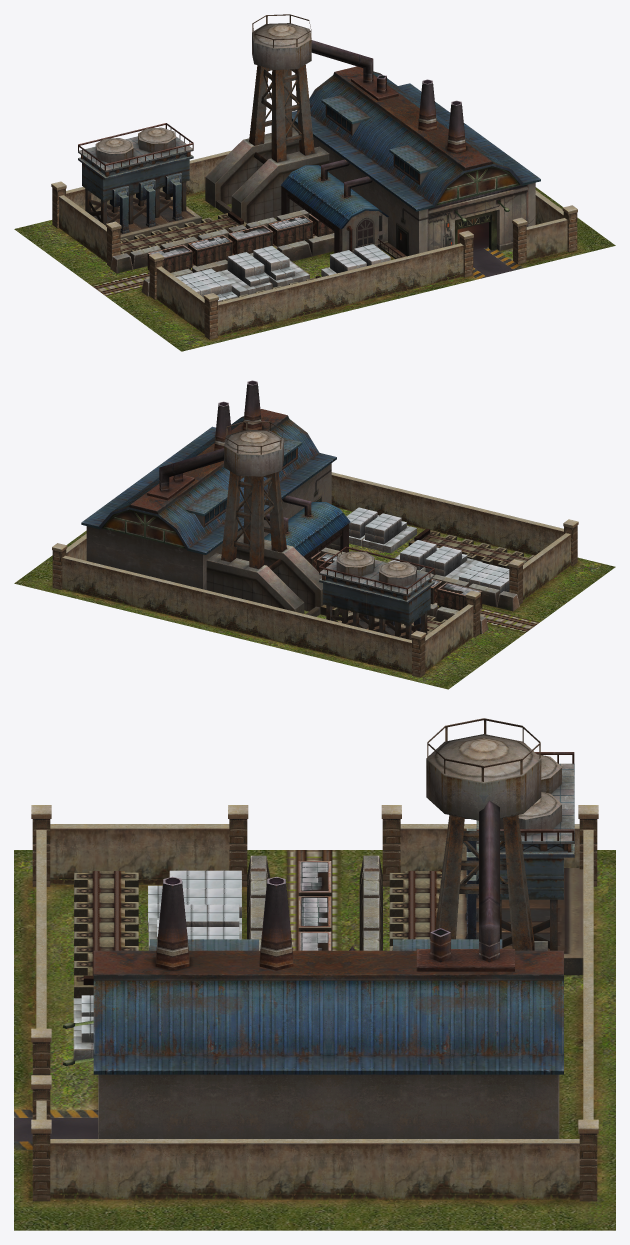
Rendered from Dhz_AluminumMinedm_03.FBX.
The picture shows the model from 3 angles, top to bottom: view 1: azimuth 30°, elevation 25°; view 2: azimuth 150°, elevation 25°; view 3: azimuth 270°, elevation 25°; orthographic projection. The views are drawn at different scales.
Parts seen in each view (by area): view 1: Dhz_AluminumMinedm_03; view 2: Dhz_AluminumMinedm_03; view 3: Dhz_AluminumMinedm_03.
Boxes of the visible parts, x1,y1,x2,y2 form: Dhz_AluminumMinedm_03: (14,14,615,351); Dhz_AluminumMinedm_03: (14,380,615,689); Dhz_AluminumMinedm_03: (14,718,615,1230).
Bounding box in the file's own units: 185 × 70.49 × 124.
